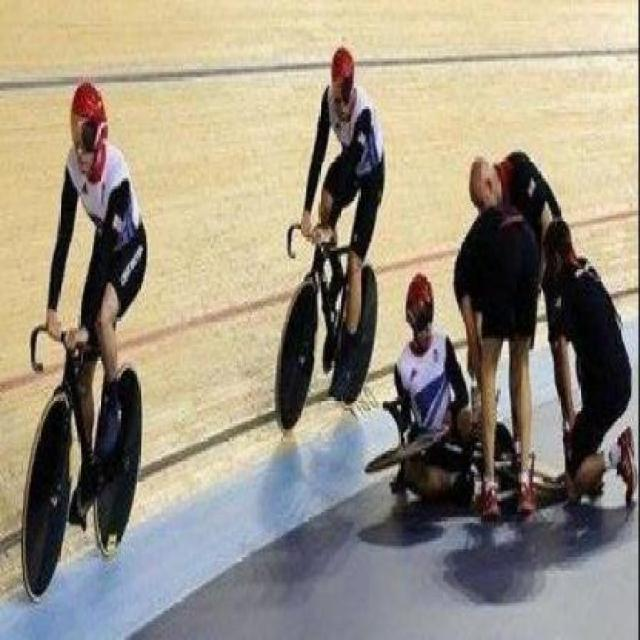fall: (403, 392, 634, 520)
